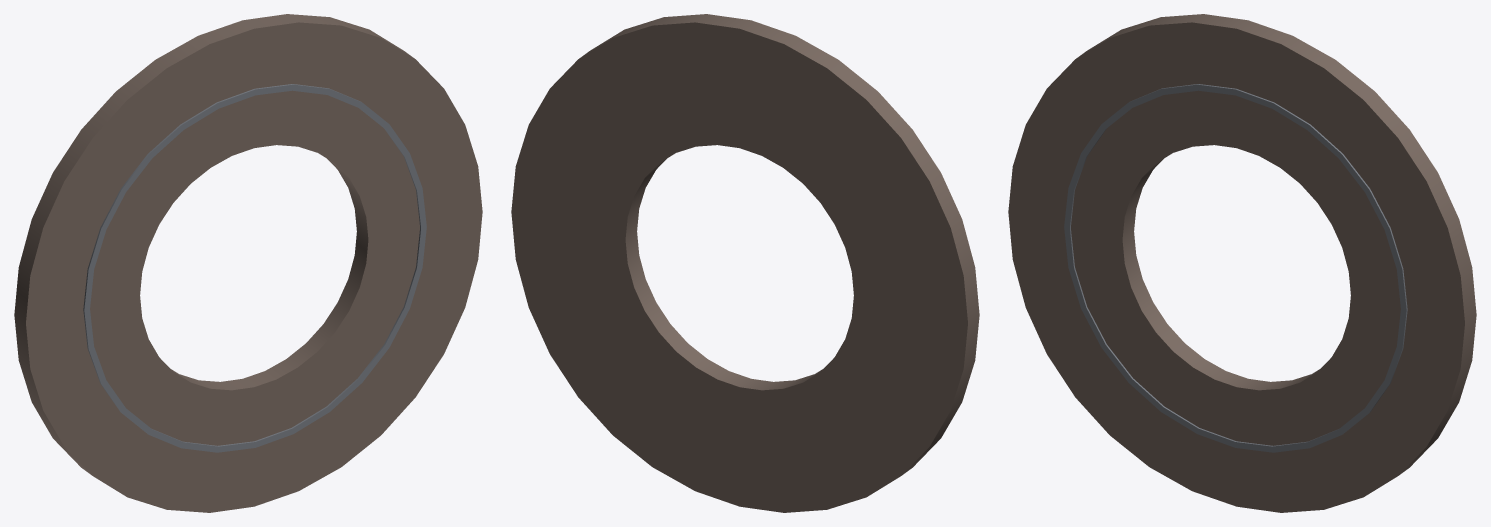
File: tape-pack.glb
3 renders of one model, left to right at view 1: azimuth 30°, elevation 25°; view 2: azimuth 150°, elevation 25°; view 3: azimuth 330°, elevation 25°, orthographic.
Parts seen in each view (by area): view 1: tape, ink; view 2: tape; view 3: tape, ink.
Part boxes in pixels (x1,y1,x2,y2): tape: (14, 14, 482, 512); ink: (83, 84, 426, 452); tape: (511, 14, 979, 512); tape: (1008, 14, 1476, 512); ink: (1064, 84, 1407, 452).
Size of the model in its own units: 32 by 32 by 1.56.
